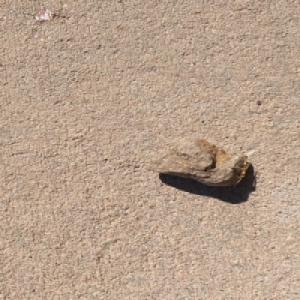Rock: (144, 135, 251, 187)
